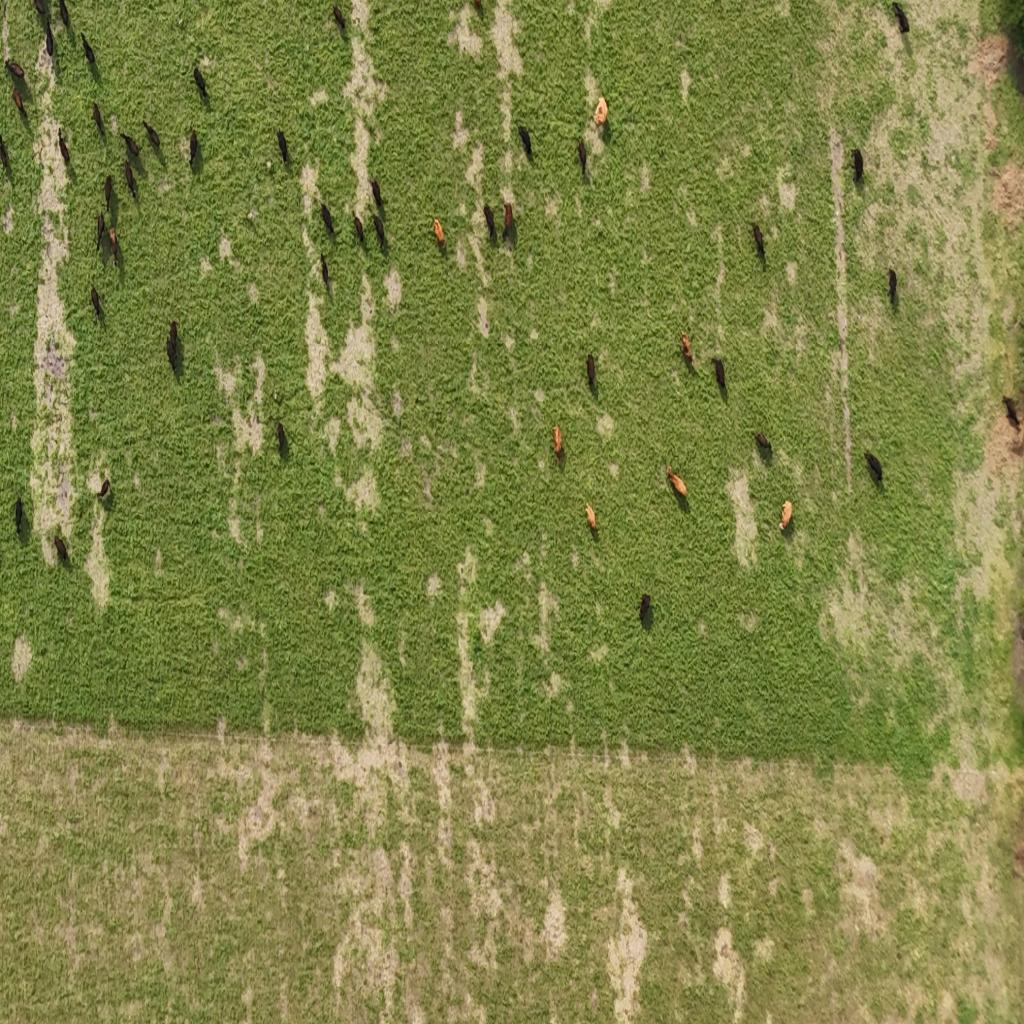cow: (668, 462, 689, 502), (1002, 395, 1022, 429), (865, 451, 884, 486), (166, 322, 179, 371), (892, 2, 910, 34), (143, 120, 160, 152), (320, 202, 335, 238), (372, 214, 386, 252), (123, 132, 141, 160), (125, 160, 137, 201), (82, 32, 96, 67), (194, 67, 208, 102), (518, 124, 532, 159), (13, 87, 27, 122), (887, 268, 899, 308), (752, 222, 765, 258), (0, 132, 11, 174), (276, 421, 288, 459), (277, 127, 289, 165), (483, 203, 495, 241), (552, 422, 564, 460), (54, 534, 69, 564), (779, 499, 793, 531), (6, 58, 25, 81), (332, 4, 347, 33), (90, 285, 102, 321), (110, 229, 121, 268), (680, 331, 693, 364), (95, 211, 105, 253), (594, 96, 608, 126), (320, 254, 331, 292), (370, 177, 383, 209), (58, 130, 70, 164), (92, 102, 104, 136), (852, 148, 864, 182), (32, 0, 48, 25), (433, 218, 445, 250), (714, 358, 726, 390), (14, 496, 24, 534), (578, 138, 588, 176), (58, 0, 70, 31), (586, 352, 596, 389), (639, 592, 652, 620), (188, 130, 198, 166), (754, 430, 771, 451), (504, 201, 514, 236), (353, 214, 364, 245), (104, 172, 113, 209), (45, 24, 54, 59), (585, 502, 596, 530), (98, 478, 110, 500), (473, 0, 483, 13), (1019, 620, 1024, 645)
